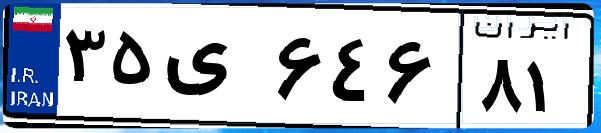1: (525, 38, 570, 115)
3: (57, 26, 110, 100)
4: (330, 28, 385, 110)
5: (110, 28, 158, 98)
6: (270, 28, 330, 110), (385, 28, 445, 110)
8: (475, 38, 525, 113)
ی: (158, 20, 270, 120)
